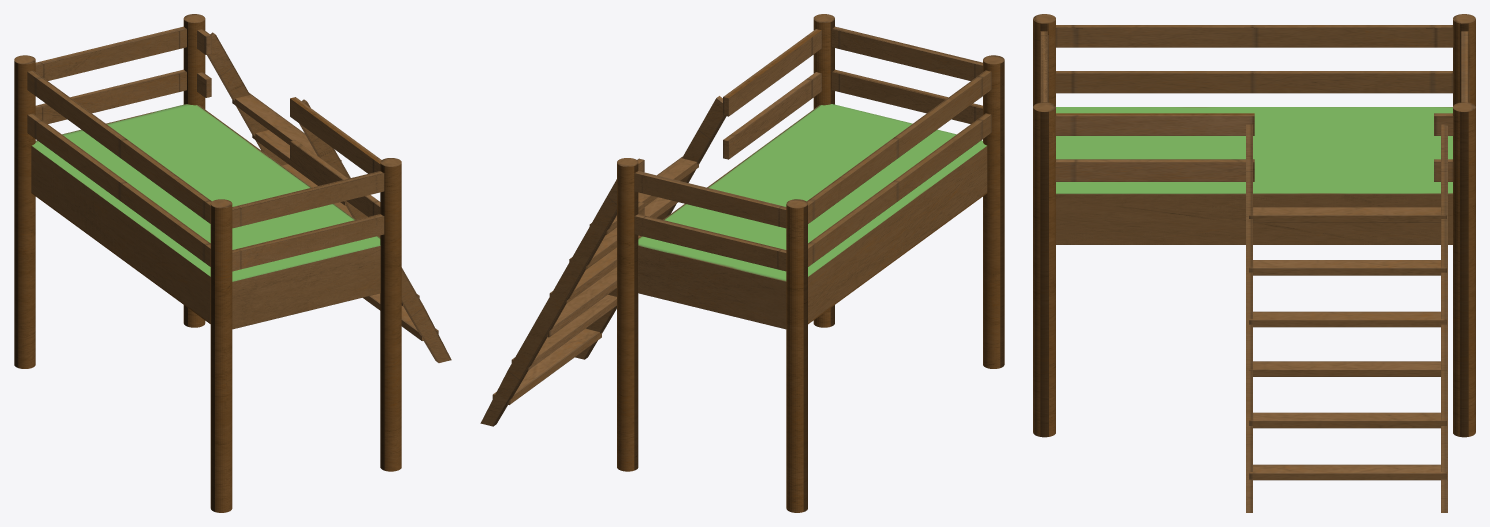
Rendered from Bett_Kobold.fbx.
The picture shows the model from 3 angles, left to right: view 1: azimuth 30°, elevation 25°; view 2: azimuth 150°, elevation 25°; view 3: azimuth 270°, elevation 25°; orthographic projection. The views are drawn at different scales.
Parts seen in each view (by area): view 1: Cube; view 2: Cube; view 3: Cube.
Part boxes in pixels (x1=…): Cube: x1=14, y1=14, x2=451, y2=512; Cube: x1=480, y1=14, x2=1004, y2=512; Cube: x1=1033, y1=14, x2=1475, y2=512.
Size of the model in its own units: 399 by 348 by 429.
